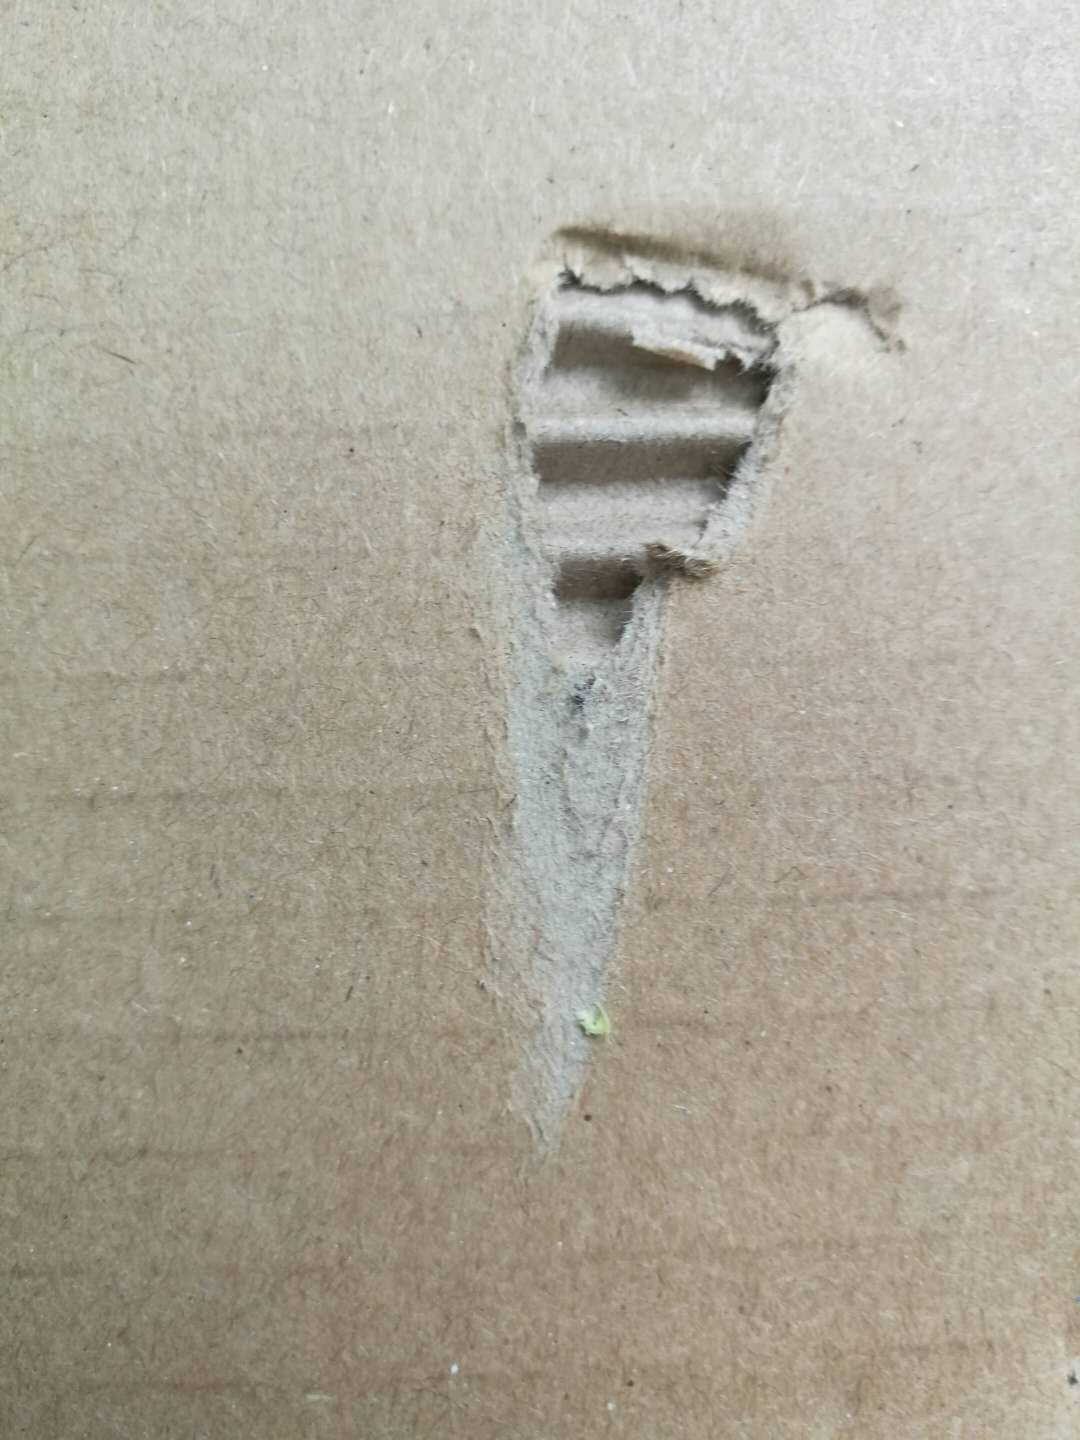defect: (406, 181, 934, 1181)
